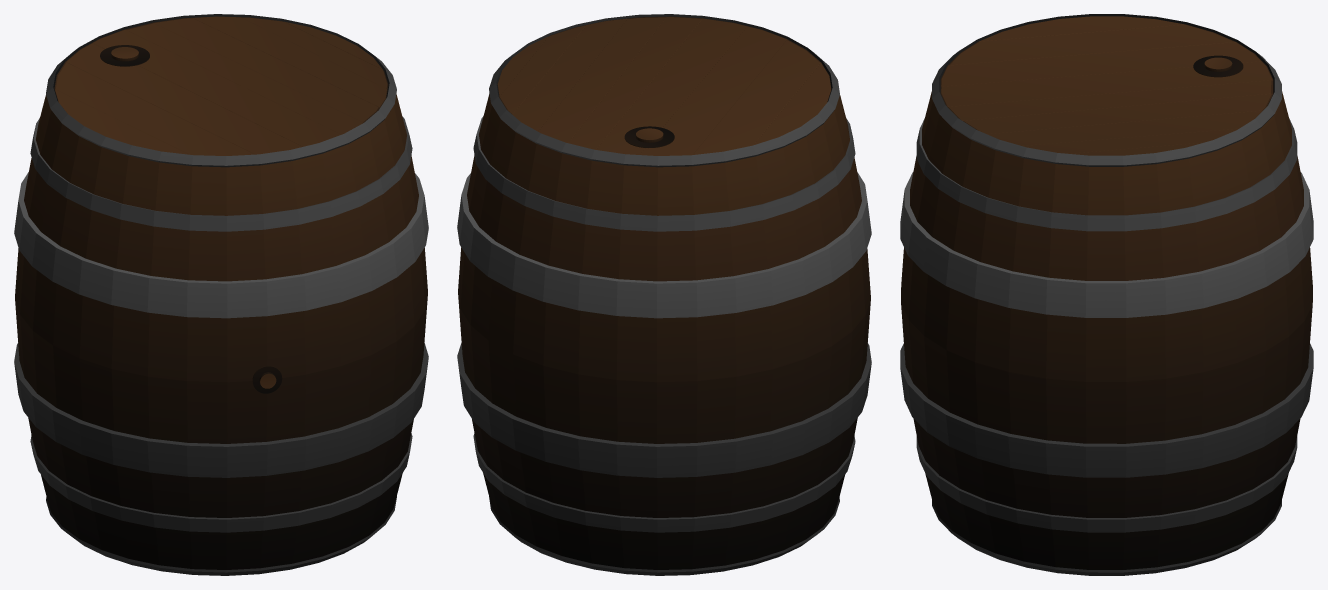
The model's file is Small Dark Barrel Closed #2.fbx.
3 views of the same model, side by side, from view 1: azimuth 30°, elevation 25°; view 2: azimuth 150°, elevation 25°; view 3: azimuth 270°, elevation 25° (orthographic).
Visible parts, largest first — view 1: Small Dark Barrel Closed #2; view 2: Small Dark Barrel Closed #2; view 3: Small Dark Barrel Closed #2.
Part boxes in pixels (x1=…): Small Dark Barrel Closed #2: x1=14, y1=14, x2=428, y2=575; Small Dark Barrel Closed #2: x1=457, y1=14, x2=871, y2=575; Small Dark Barrel Closed #2: x1=900, y1=14, x2=1313, y2=575.
Bounding box in the file's own units: 272 × 242 × 242.
Materials: 1 (1 with a texture image).
